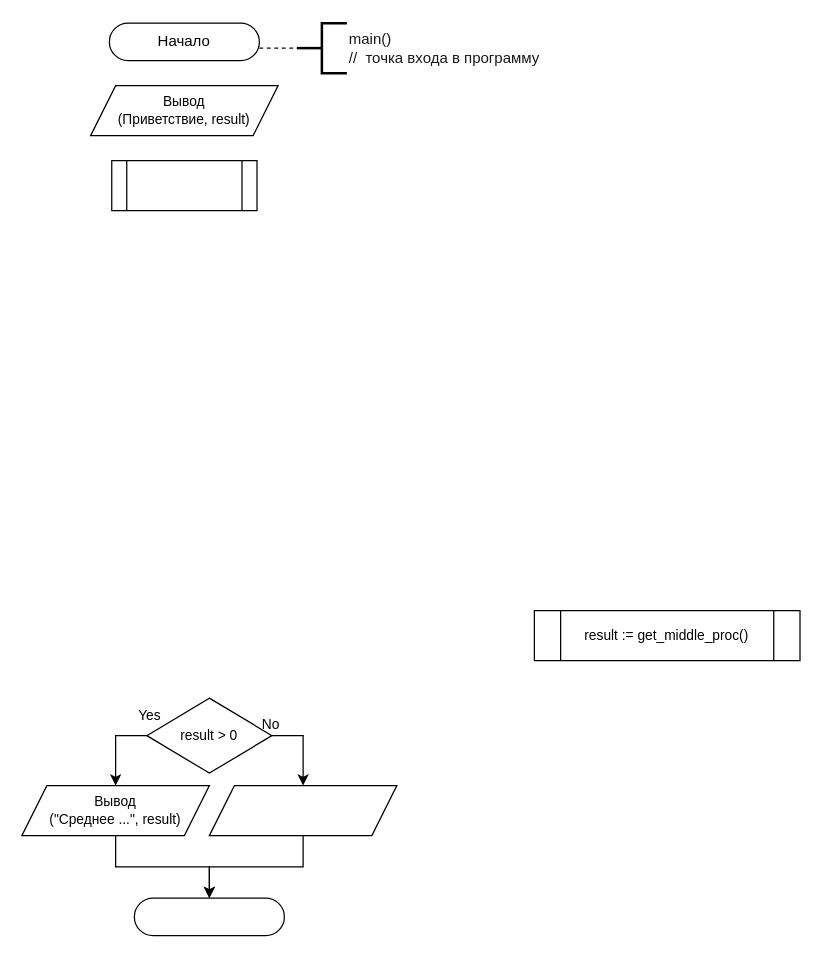
This 823x958 diagram has some shape labels left out. The shapes that lost their labels are listed below. From the top down, each one's centre as x and y in pixels, then its label:
point 183,185: print_menu()
point 302,810: Вывод ("Простых...")
point 208,916: Конец
